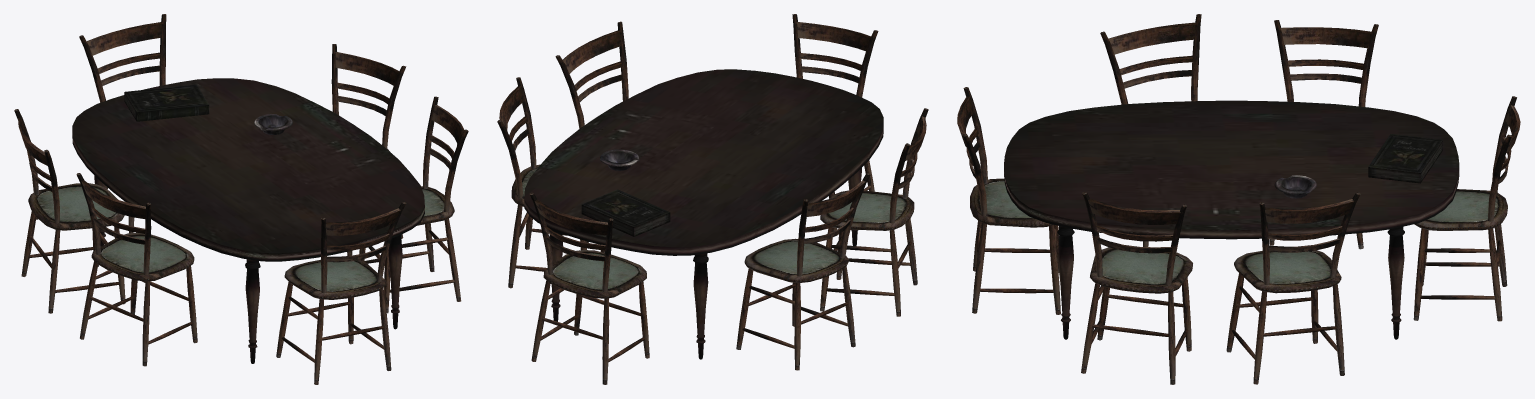
Rendered from table2.fbx.
The picture shows the model from 3 angles, left to right: view 1: azimuth 30°, elevation 25°; view 2: azimuth 150°, elevation 25°; view 3: azimuth 270°, elevation 25°; orthographic projection. The views are drawn at different scales.
Parts seen in each view (by area): view 1: gr_5_1, Group4, Group6, Group5, Group2, Group1, Group3, gr_8_1, gr_6_1; view 2: gr_5_1, Group1, Group5, Group6, Group3, Group4, Group2, gr_8_1, gr_6_1; view 3: gr_5_1, Group3, Group2, Group1, Group4, Group5, Group6, gr_8_1, gr_6_1.
Part boxes in pixels (<box>): gr_5_1: <box>72,78,424,363</box>; Group4: <box>276,202,406,384</box>; Group6: <box>76,173,197,366</box>; Group5: <box>14,109,125,313</box>; Group2: <box>359,96,468,313</box>; Group1: <box>79,14,166,233</box>; Group3: <box>331,44,406,255</box>; gr_8_1: <box>124,84,209,121</box>; gr_6_1: <box>254,114,292,134</box>; gr_5_1: <box>524,69,883,359</box>; Group1: <box>529,192,649,384</box>; Group5: <box>736,173,870,370</box>; Group6: <box>820,108,928,316</box>; Group3: <box>497,77,604,288</box>; Group4: <box>792,14,878,231</box>; Group2: <box>555,21,628,128</box>; gr_8_1: <box>581,189,670,236</box>; gr_6_1: <box>599,149,639,170</box>; gr_5_1: <box>1004,100,1459,339</box>; Group3: <box>1226,192,1360,384</box>; Group2: <box>1081,192,1192,384</box>; Group1: <box>1413,96,1520,321</box>; Group4: <box>957,87,1060,314</box>; Group5: <box>1269,20,1378,249</box>; Group6: <box>1100,14,1201,246</box>; gr_8_1: <box>1368,134,1442,183</box>; gr_6_1: <box>1274,175,1316,198</box>.
Bounding box in the file's own units: 2.27 × 1.05 × 2.82.
